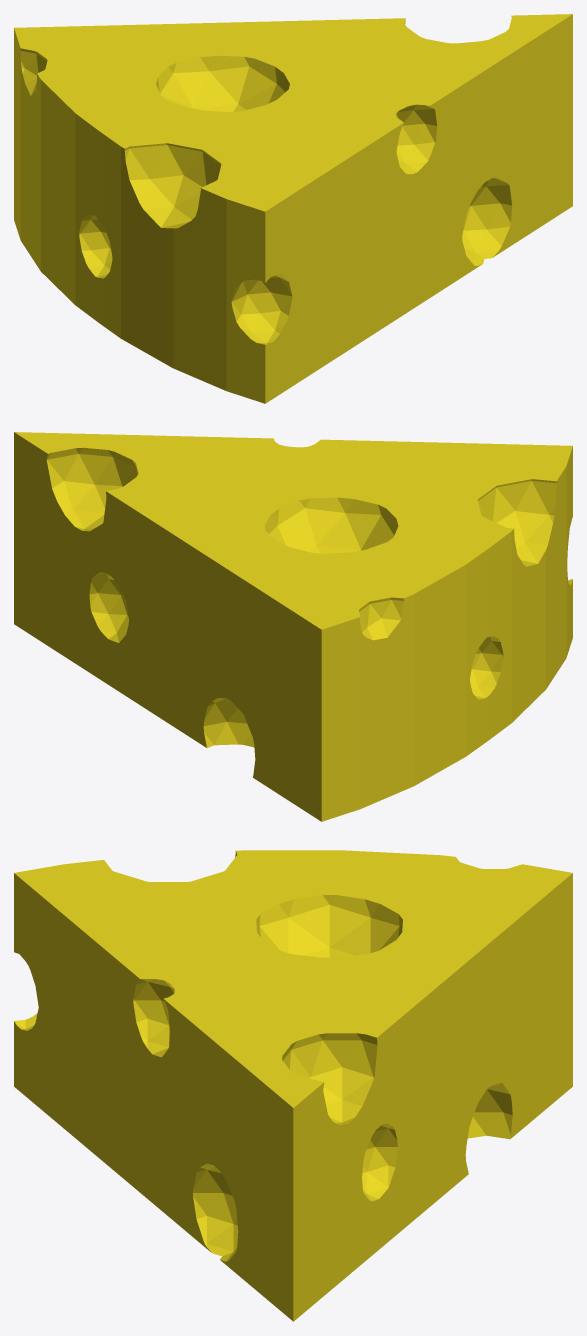
File: cheese.fbx
3 renders of one model, top to bottom at view 1: azimuth 30°, elevation 25°; view 2: azimuth 150°, elevation 25°; view 3: azimuth 270°, elevation 25°, orthographic. The views are drawn at different scales.
Visible parts, largest first — view 1: Cheese; view 2: Cheese; view 3: Cheese.
Boxes of the visible parts, box(x1,y1,x2,y2) form: Cheese: box(14, 14, 572, 403); Cheese: box(14, 432, 572, 821); Cheese: box(14, 850, 572, 1321).
Bounding box in the file's own units: 121 × 46.82 × 111.
